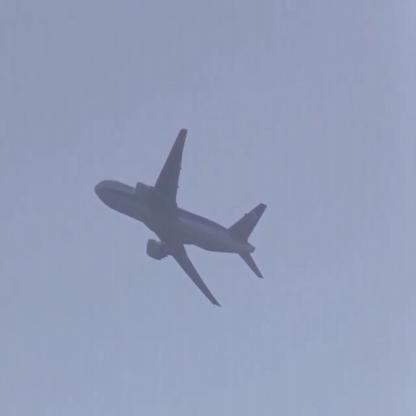CIV_Plane: (93, 121, 276, 312)
